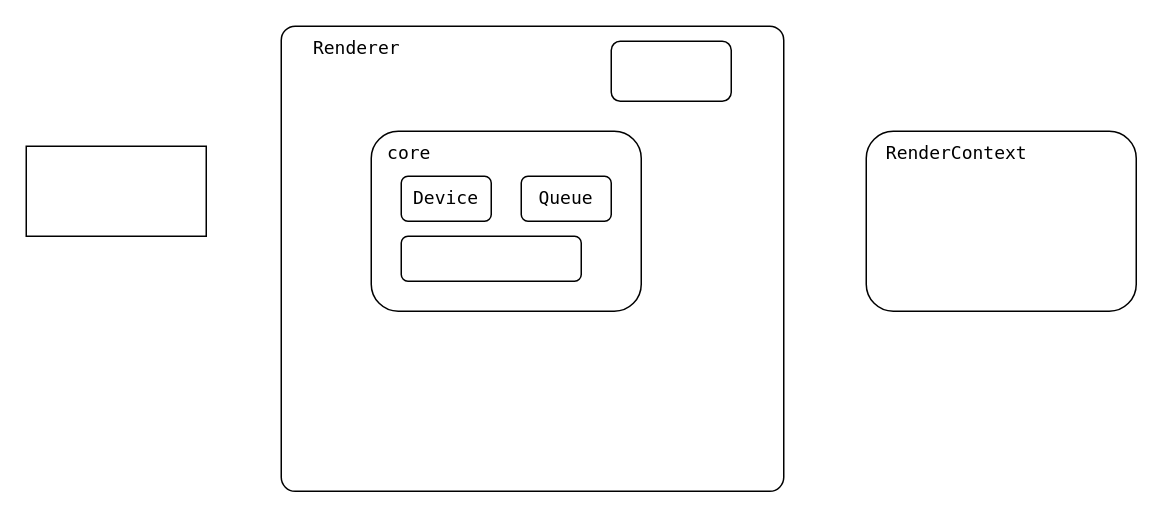
Some shapes in this 1163 by 518 pixel diagram are drawn without their labels. The shapes that lost their labels are listed below. From the top down, each one's centre as x and y in pixels, then its label:
point (670, 70): Swapchain
point (490, 258): PhysicalDevice
